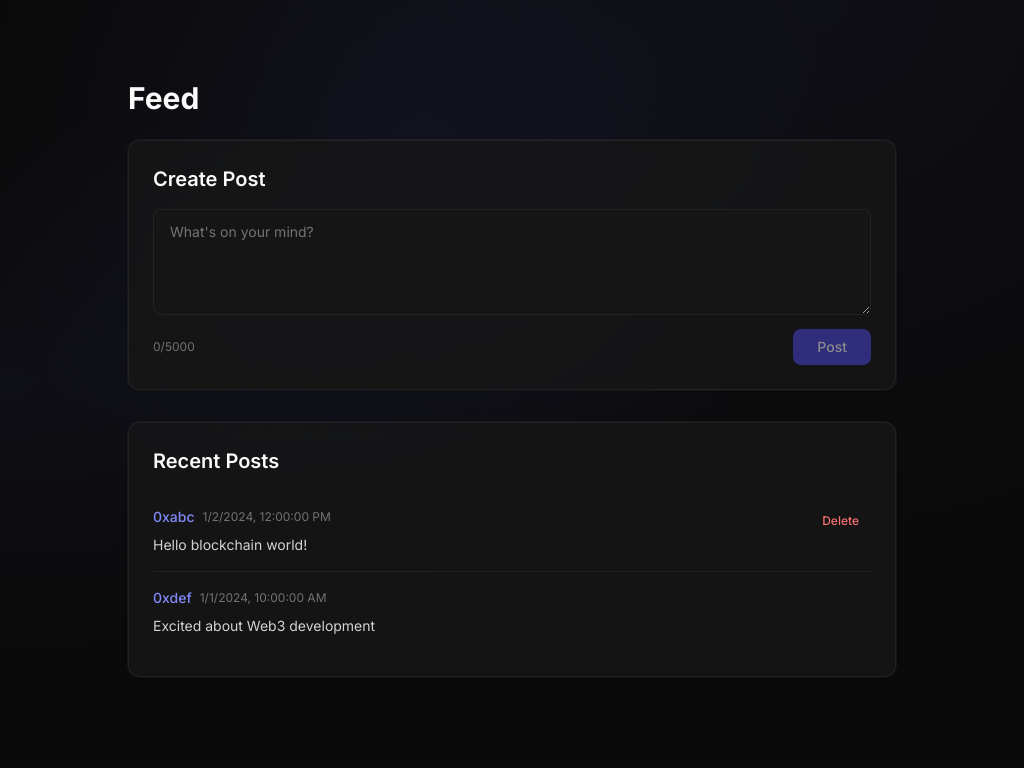
Test: FeedPage › displays error when deleting post fails
The width and height of the screenshot is (1024, 768).
Expected: the text "Hello blockchain world!" is shown, [153, 536, 307, 553]
Click the button with aria-label "Delete post 1": (841, 521) [810, 507, 871, 535]
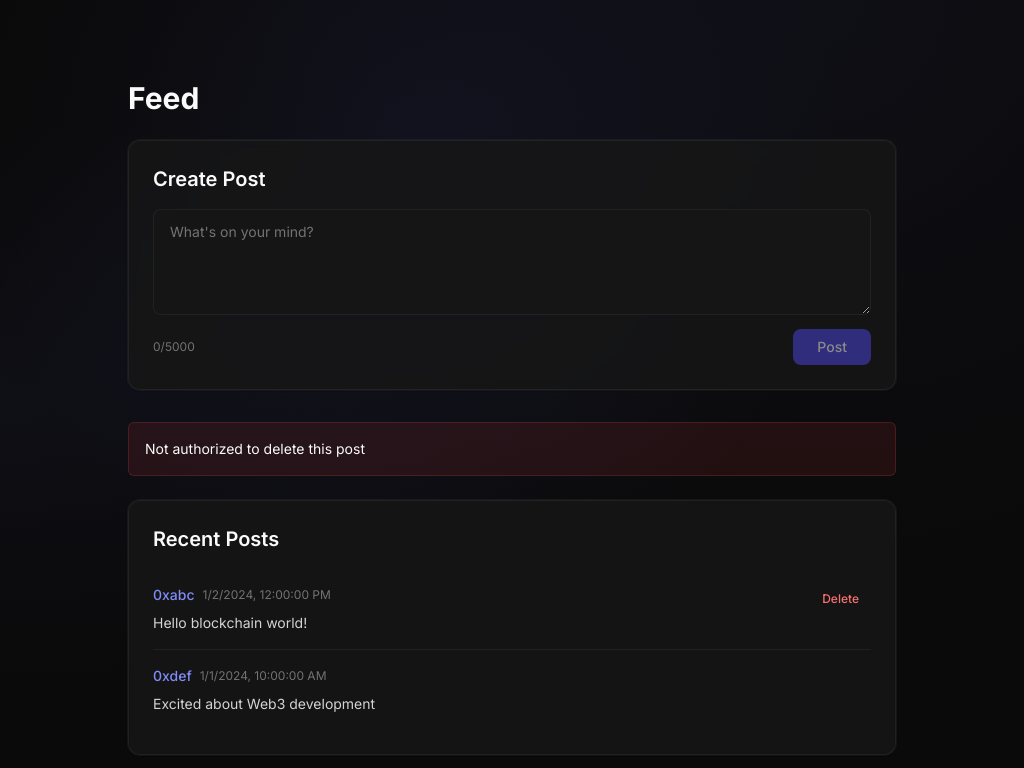
Now the text "Not authorized to delete this post" is shown, box [128, 422, 896, 476]
